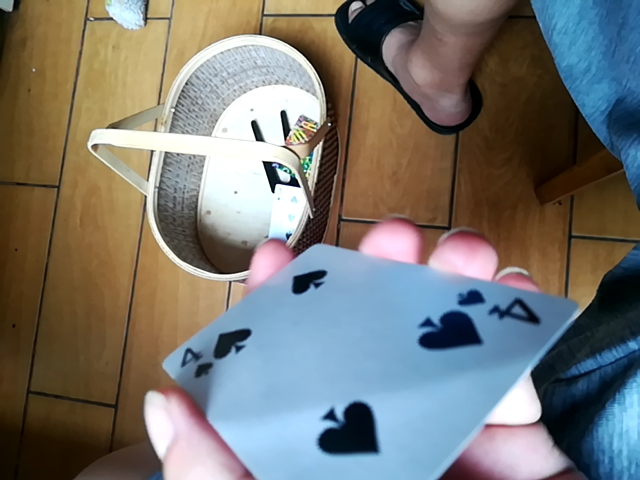ht 4: (153, 225, 579, 475)
